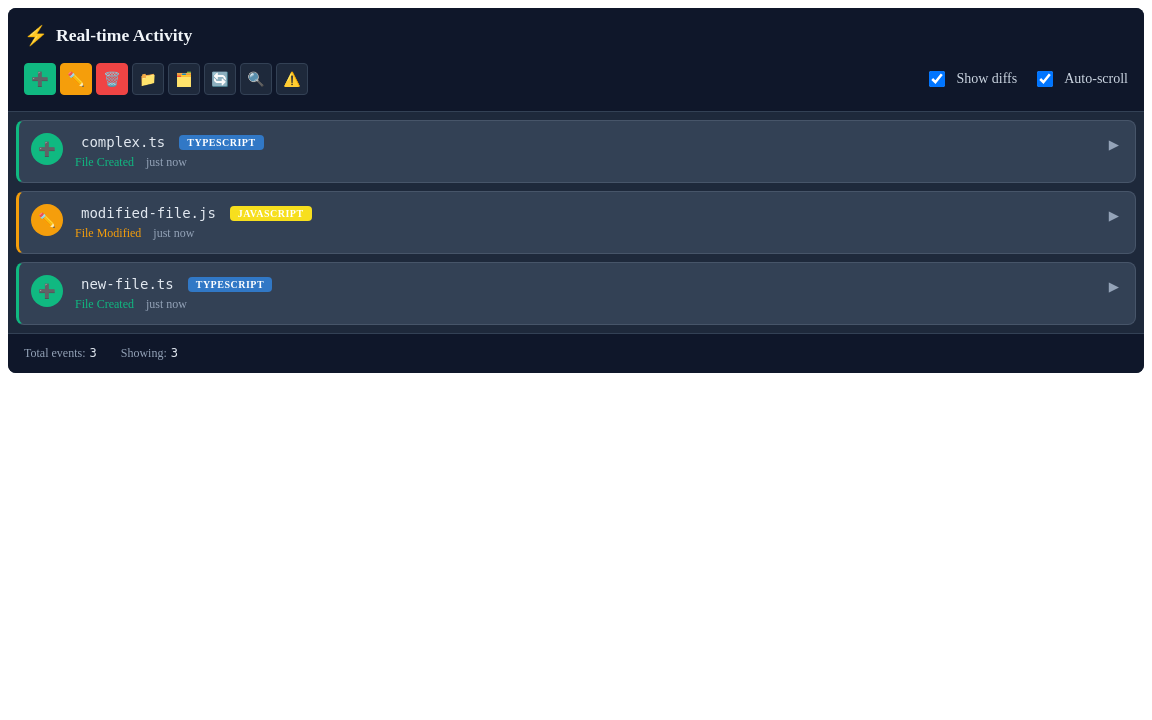
it: ActivityFeed Component › should format complexity levels with correct styling
Click the 1st button with class "expand-button": coordinates (1114, 144) [1105, 133, 1123, 156]
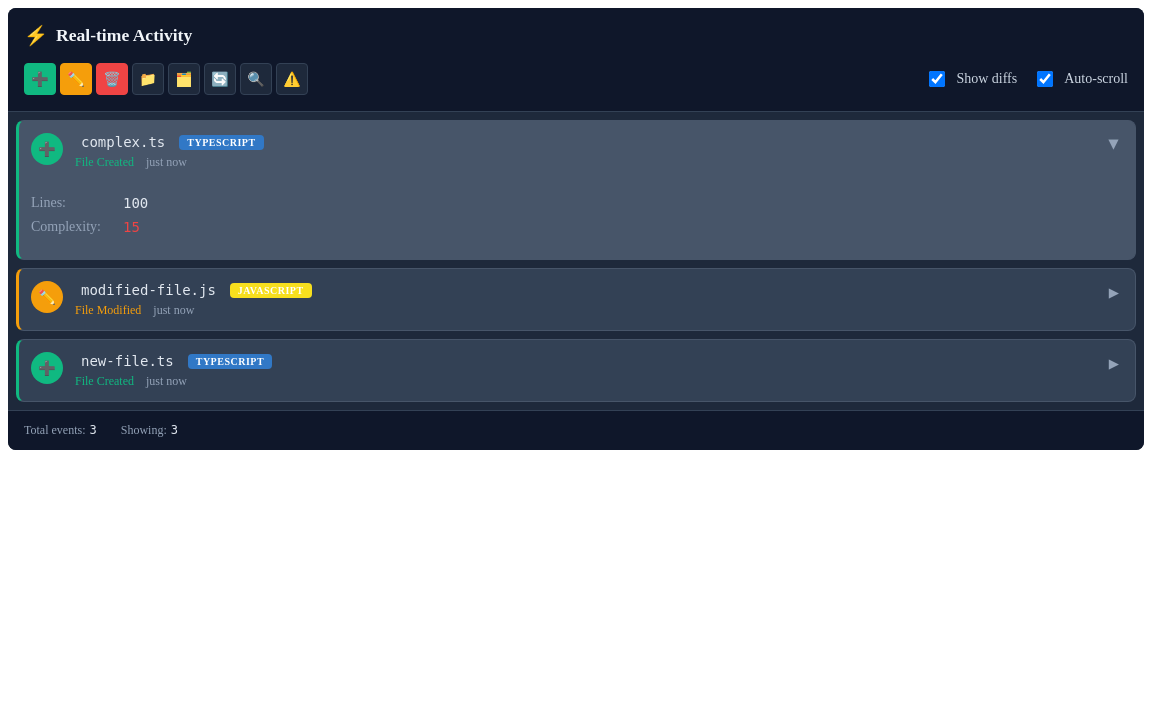
Click the 2nd button with class "expand-button": coordinates (1114, 292) [1105, 281, 1123, 304]
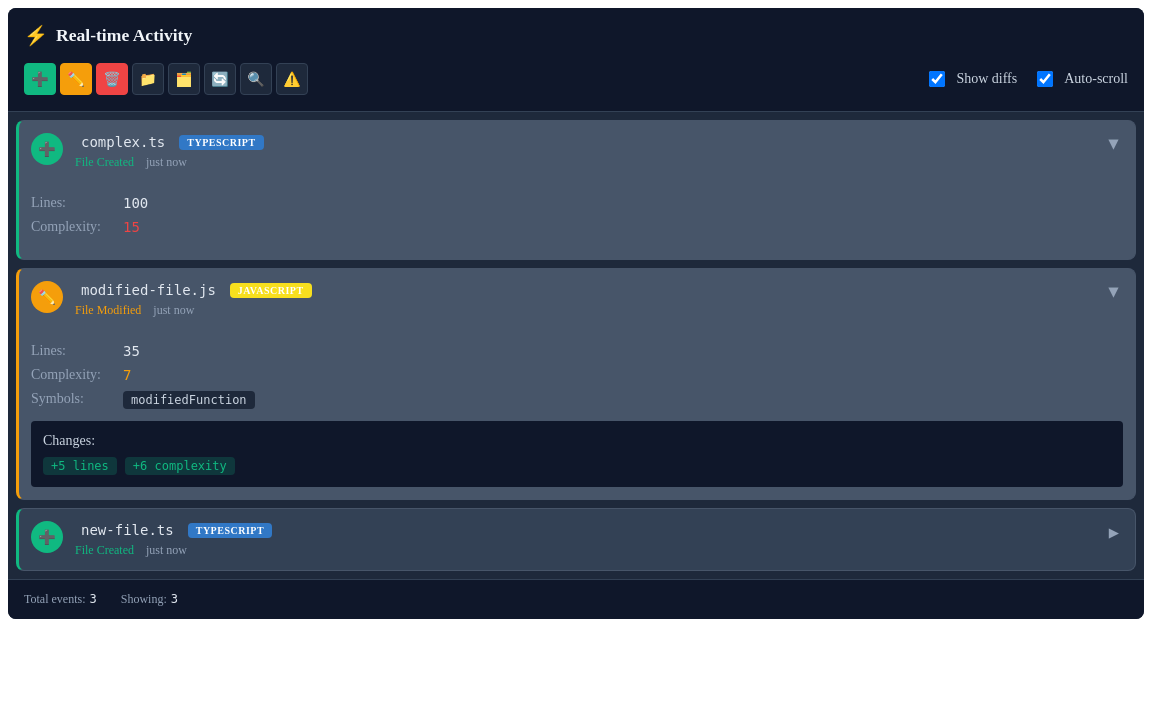
Click the 3rd button with class "expand-button": coordinates (1114, 532) [1105, 521, 1123, 544]
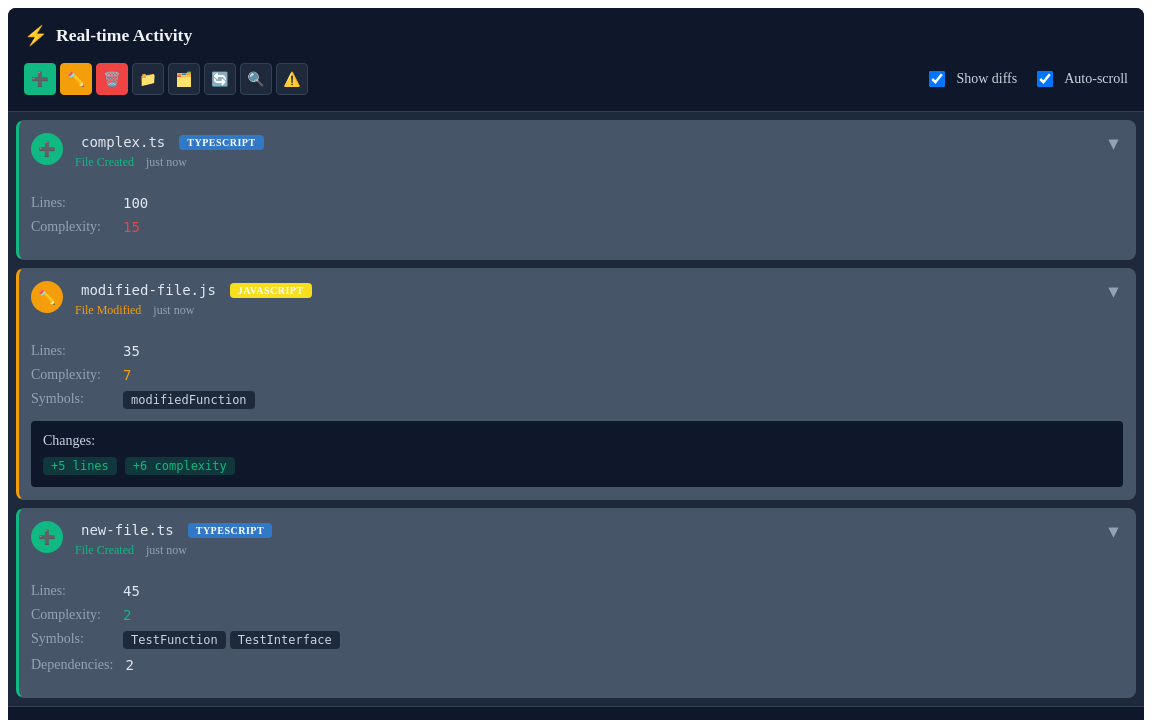
Check: the text "7" is shown, box [123, 367, 131, 383]
Check: the text "15" is shown, box [123, 219, 140, 235]
Check: the text with class "complexity-low" is shown, box [123, 607, 131, 623]
